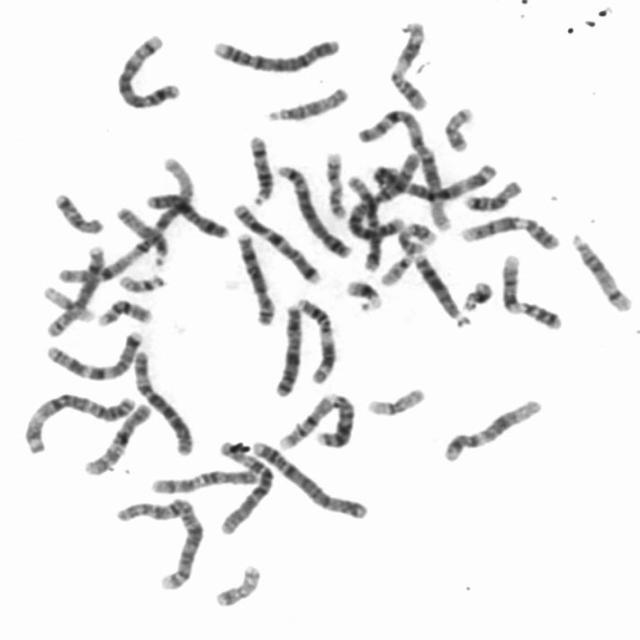A1: (53, 150, 200, 288), (352, 103, 455, 234)
A2: (111, 492, 208, 592), (343, 146, 423, 244)
A3: (20, 390, 138, 454), (366, 157, 497, 201)
B4: (246, 434, 370, 522), (207, 32, 344, 75)
B5: (272, 160, 354, 259), (110, 30, 184, 111)
C10: (79, 399, 153, 477), (146, 464, 261, 495)
C11: (385, 16, 432, 112), (292, 293, 338, 385)
C12: (438, 392, 544, 463), (342, 170, 384, 272)
C6: (129, 346, 197, 457), (214, 435, 279, 536)
C7: (226, 197, 323, 285), (42, 327, 147, 382)
C8: (41, 241, 108, 339), (232, 227, 278, 326)
C9: (497, 249, 565, 332), (457, 210, 562, 252)
D13: (410, 248, 472, 328), (311, 388, 358, 449)
D14: (568, 229, 635, 313), (244, 130, 276, 208)
D15: (111, 202, 172, 268), (261, 81, 352, 124)
E16: (274, 390, 336, 451), (94, 294, 154, 328)
E17: (320, 147, 348, 220), (392, 218, 438, 256)
E18: (50, 187, 106, 236), (461, 176, 525, 213)
F19: (40, 282, 96, 324), (363, 382, 428, 418)
F20: (210, 561, 264, 609), (439, 101, 477, 154)
G21: (341, 274, 386, 311), (458, 276, 496, 312)
G22: (377, 248, 417, 287), (114, 268, 170, 294)
X: (143, 187, 231, 240), (270, 298, 306, 399)
